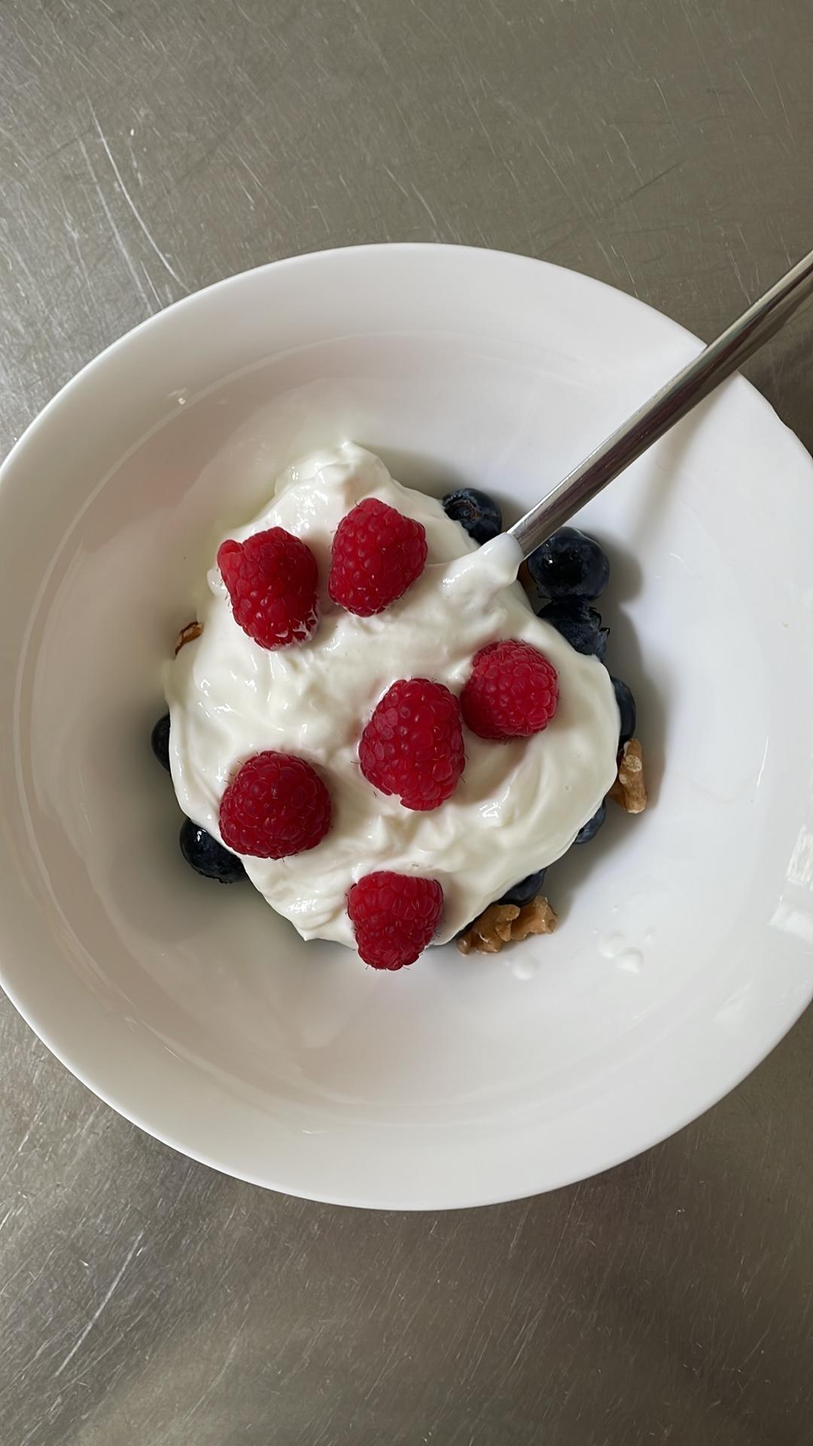blueberry: (522, 524, 609, 596), (175, 816, 251, 883), (539, 600, 614, 659), (439, 486, 502, 540), (605, 676, 640, 739), (494, 866, 545, 905), (562, 807, 611, 846), (153, 709, 173, 769)
raspberry: (355, 673, 471, 805), (217, 749, 336, 853), (323, 497, 428, 614), (218, 528, 321, 644), (347, 872, 446, 975), (462, 640, 557, 741)
